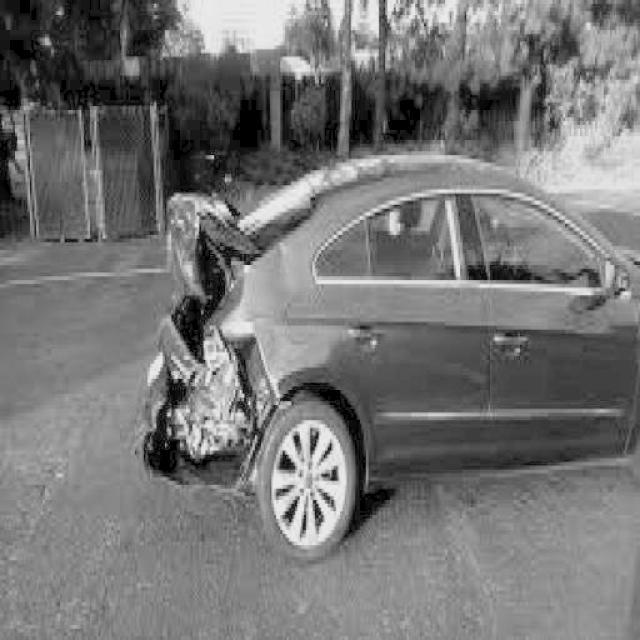car damage: (141, 188, 293, 509)
